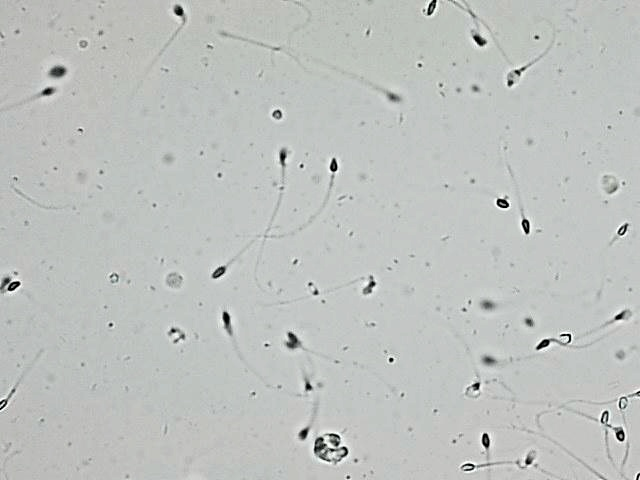sperm: (183, 116, 287, 198), (228, 296, 344, 366), (177, 266, 265, 354), (268, 35, 358, 81), (230, 257, 328, 289), (514, 381, 588, 423), (480, 0, 532, 54), (488, 100, 518, 190), (252, 106, 276, 192), (186, 218, 234, 260), (544, 292, 604, 325), (436, 298, 466, 360), (121, 0, 165, 41), (0, 316, 22, 380), (590, 377, 610, 441), (286, 374, 308, 420), (611, 361, 625, 431), (553, 382, 611, 398), (456, 173, 492, 197), (0, 74, 32, 98), (284, 341, 304, 377), (515, 324, 553, 342), (453, 348, 509, 360), (448, 0, 474, 24), (596, 209, 618, 235), (432, 456, 488, 466), (503, 438, 527, 460), (36, 56, 58, 72), (476, 416, 486, 448), (471, 294, 492, 306), (0, 272, 12, 288), (420, 0, 432, 8), (0, 270, 6, 284)
